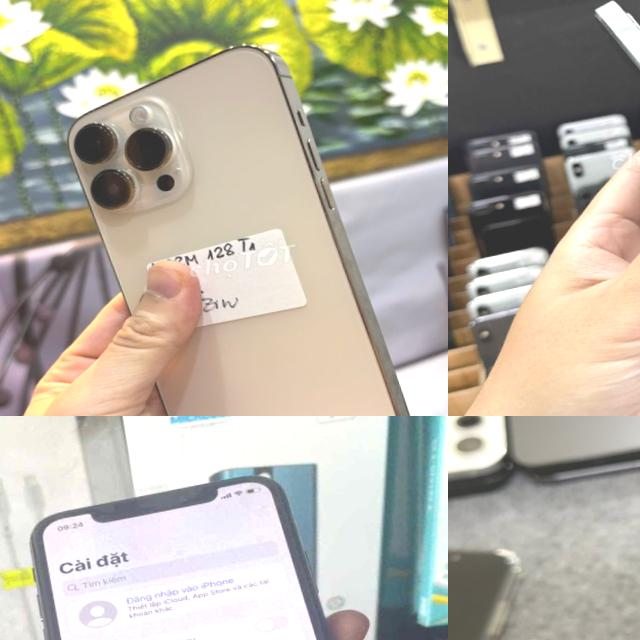gen_12_13: (587, 0, 640, 320)
gen_14: (50, 23, 418, 416)
gen_15: (550, 527, 640, 640)
gen_x_xs: (12, 462, 398, 640)
